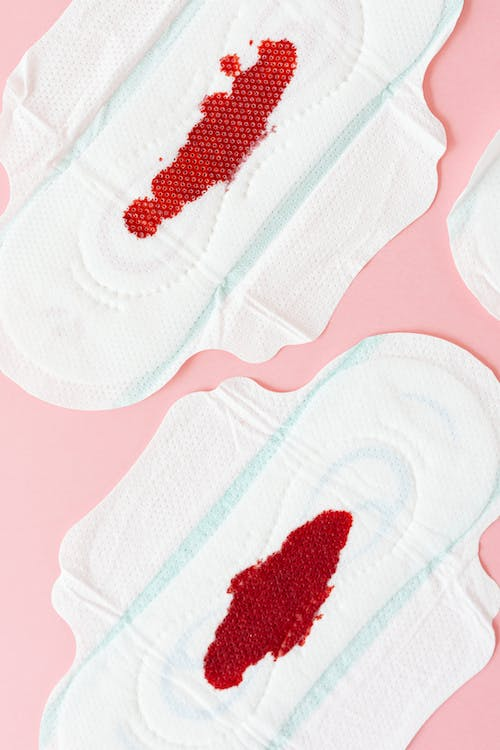blood: (119, 31, 299, 242), (198, 505, 354, 693)
